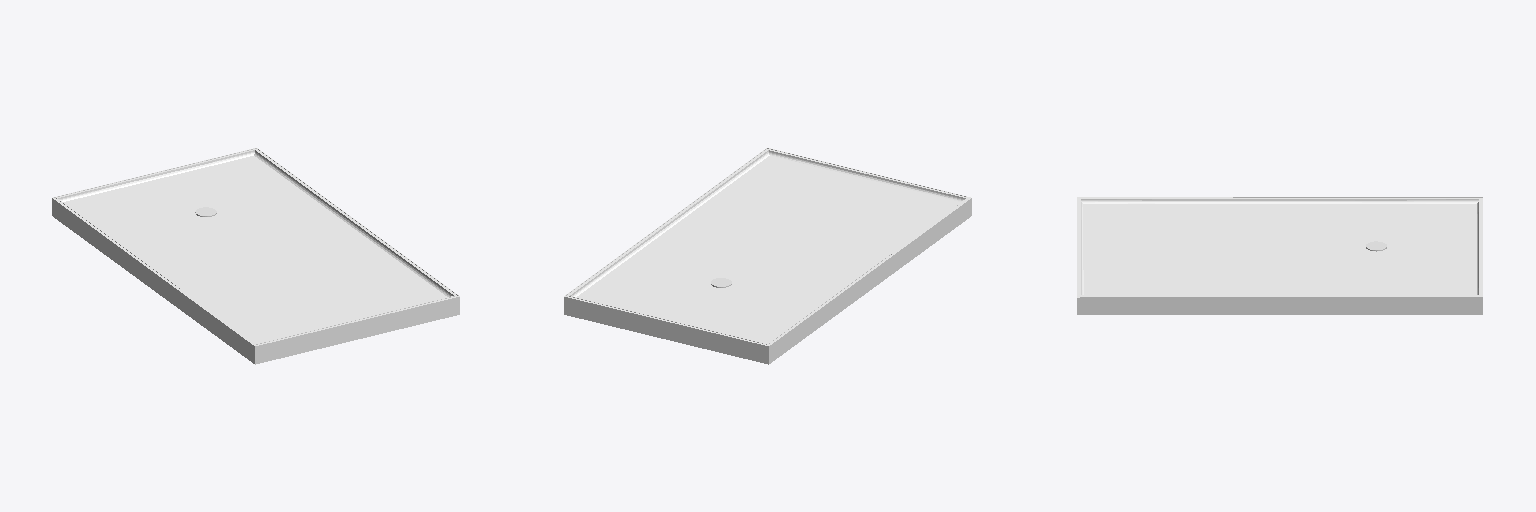
File: Duschtasse.obj
3 views of the same model, side by side, from view 1: azimuth 30°, elevation 25°; view 2: azimuth 150°, elevation 25°; view 3: azimuth 270°, elevation 25° (orthographic).
Parts seen in each view (by area): view 1: Mesh1 Component_644 G_6_Duschtasse_dwg1 Model; view 2: Mesh1 Component_644 G_6_Duschtasse_dwg1 Model; view 3: Mesh1 Component_644 G_6_Duschtasse_dwg1 Model.
Boxes of the visible parts, x1,y1,x2,y2 form: Mesh1 Component_644 G_6_Duschtasse_dwg1 Model: [52, 148, 459, 364]; Mesh1 Component_644 G_6_Duschtasse_dwg1 Model: [564, 148, 971, 364]; Mesh1 Component_644 G_6_Duschtasse_dwg1 Model: [1077, 197, 1482, 314].
Size of the model in its own units: 94.39 by 8.17 by 162.